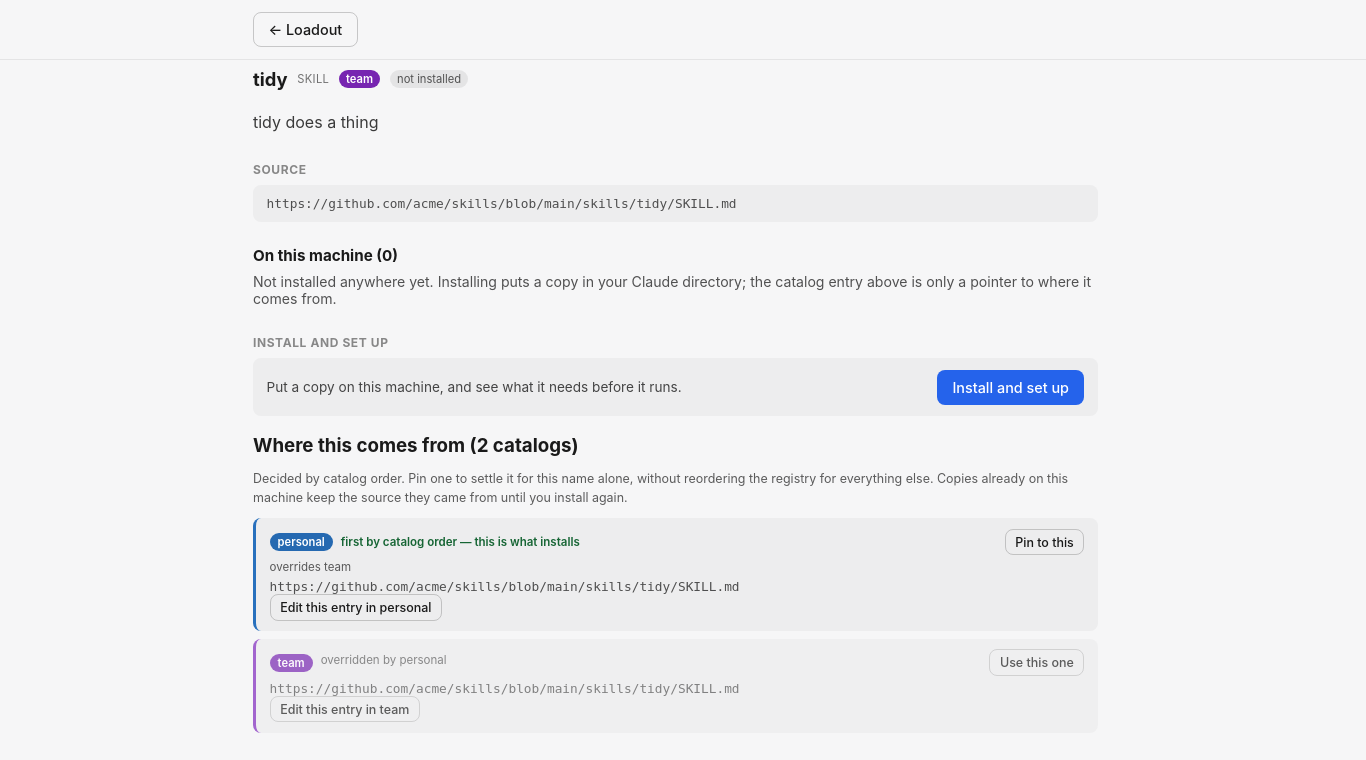
Test: UI-30: pinning › asks first when the pin would leave another catalog's copy installed, naming it, what else installs, and who expects it
Click the button "Use this one" at (1037, 663), box [989,649,1084,676]
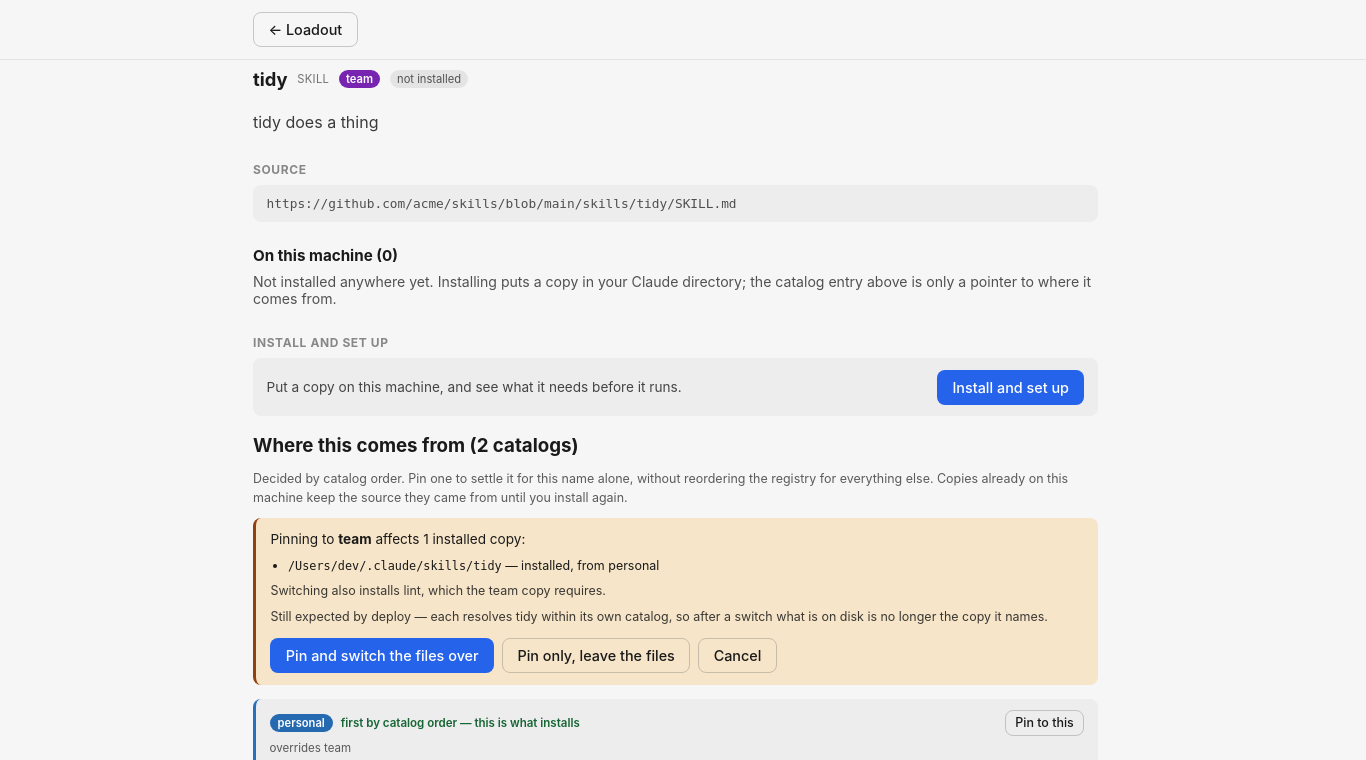
Expected: the element with class "entry-detail__propose" shows "Pinning to team affects 1 installed copy:", [253,518,1098,685]
Expected: the element with class "entry-detail__propose" shows "Switching also installs lint, which the team copy requires.", [270,584,606,598]
Expected: the element with class "entry-detail__propose" shows "Still expected by deploy", [270,609,1048,624]
